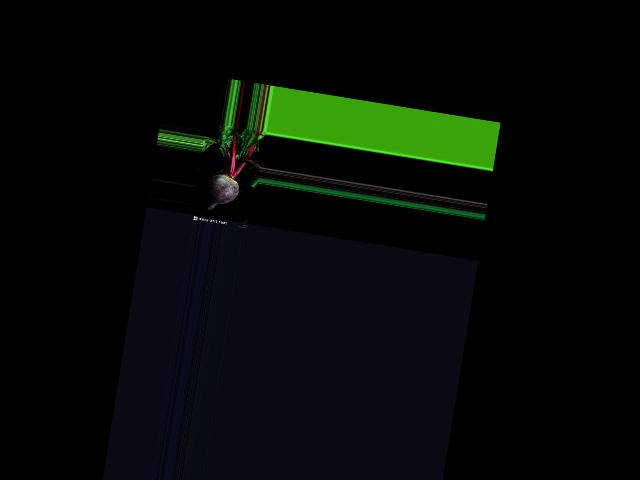beet: (192, 122, 267, 217)
